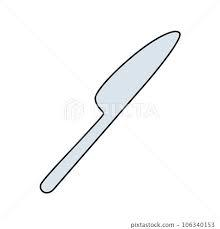Knife: (39, 29, 181, 193)
